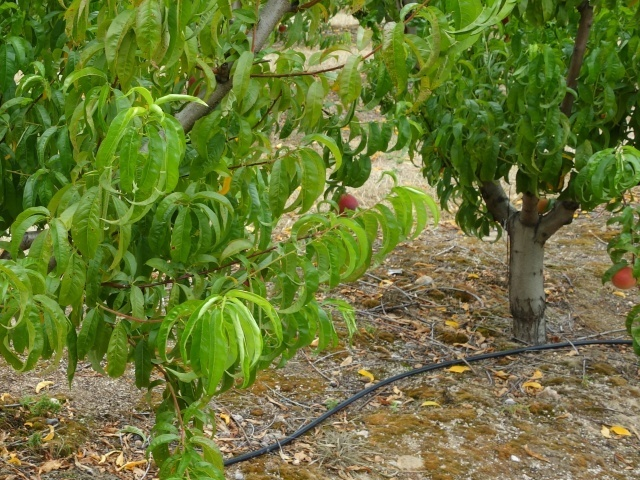peach: (610, 260, 636, 291), (333, 191, 359, 214)
